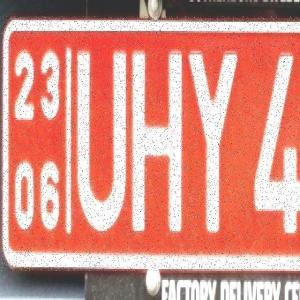Plate: (1, 16, 300, 271)
